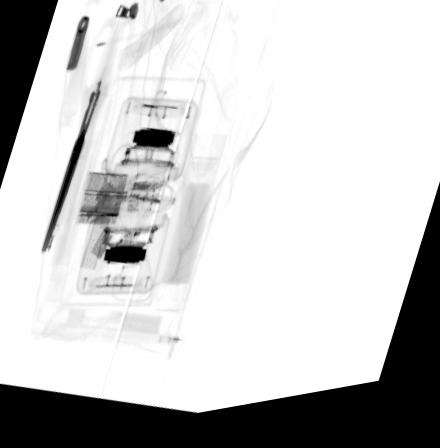Scissors: (40, 18, 142, 256)
